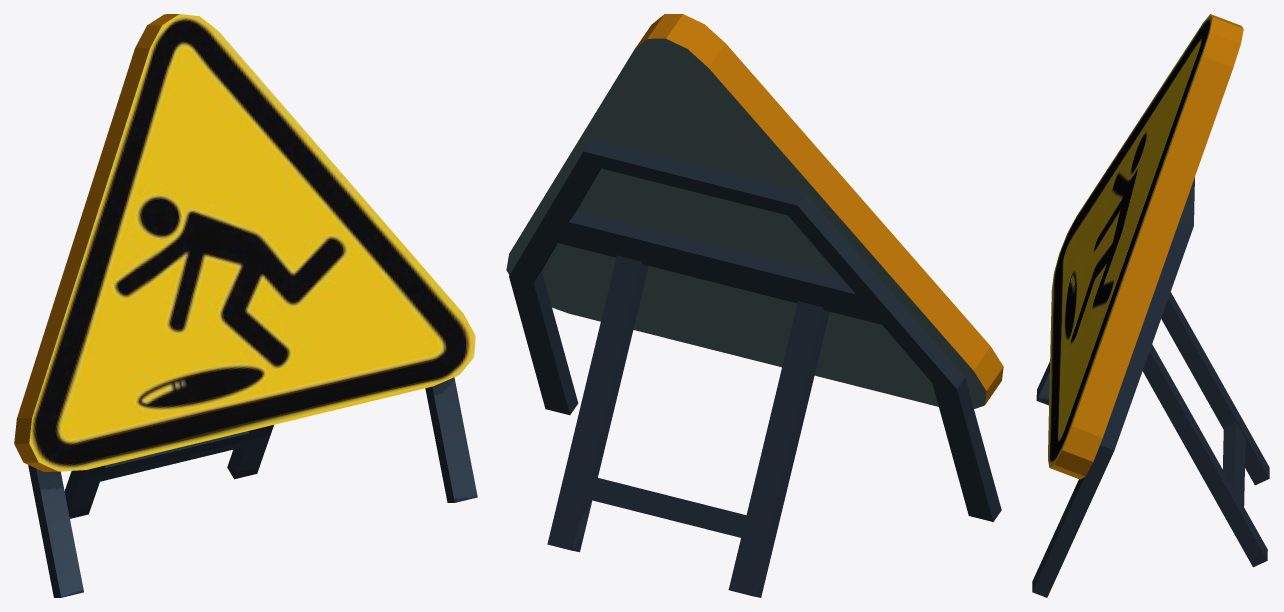
File: sign.obj
The picture shows the model from 3 angles, left to right: view 1: azimuth 30°, elevation 25°; view 2: azimuth 150°, elevation 25°; view 3: azimuth 270°, elevation 25°; orthographic projection. The views are drawn at different scales.
Visible parts, largest first — view 1: Sign; view 2: Sign; view 3: Sign.
Part boxes in pixels (x1,y1,x2,y2): Sign: [14, 14, 477, 597]; Sign: [506, 14, 1003, 597]; Sign: [1032, 14, 1269, 597].
Size of the model in its own units: 0.4548 by 0.4878 by 0.2089.
Materials: 1 (1 with a texture image).
